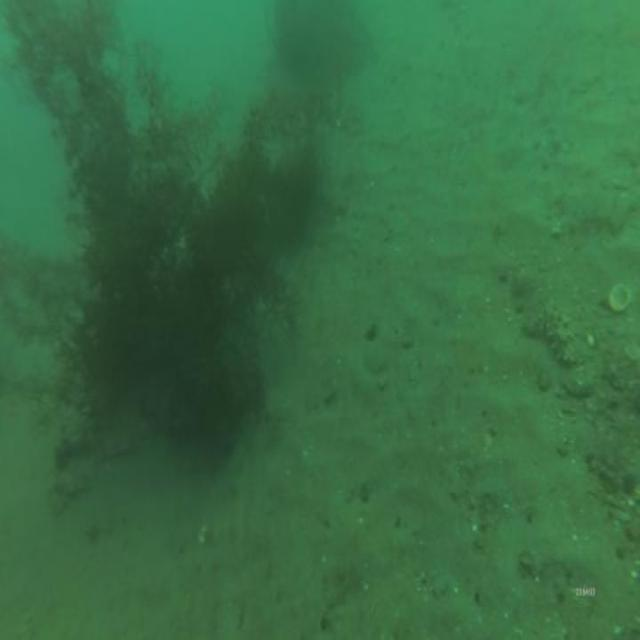holothurian: (536, 294, 577, 370)
waterweeds: (0, 0, 329, 465)
